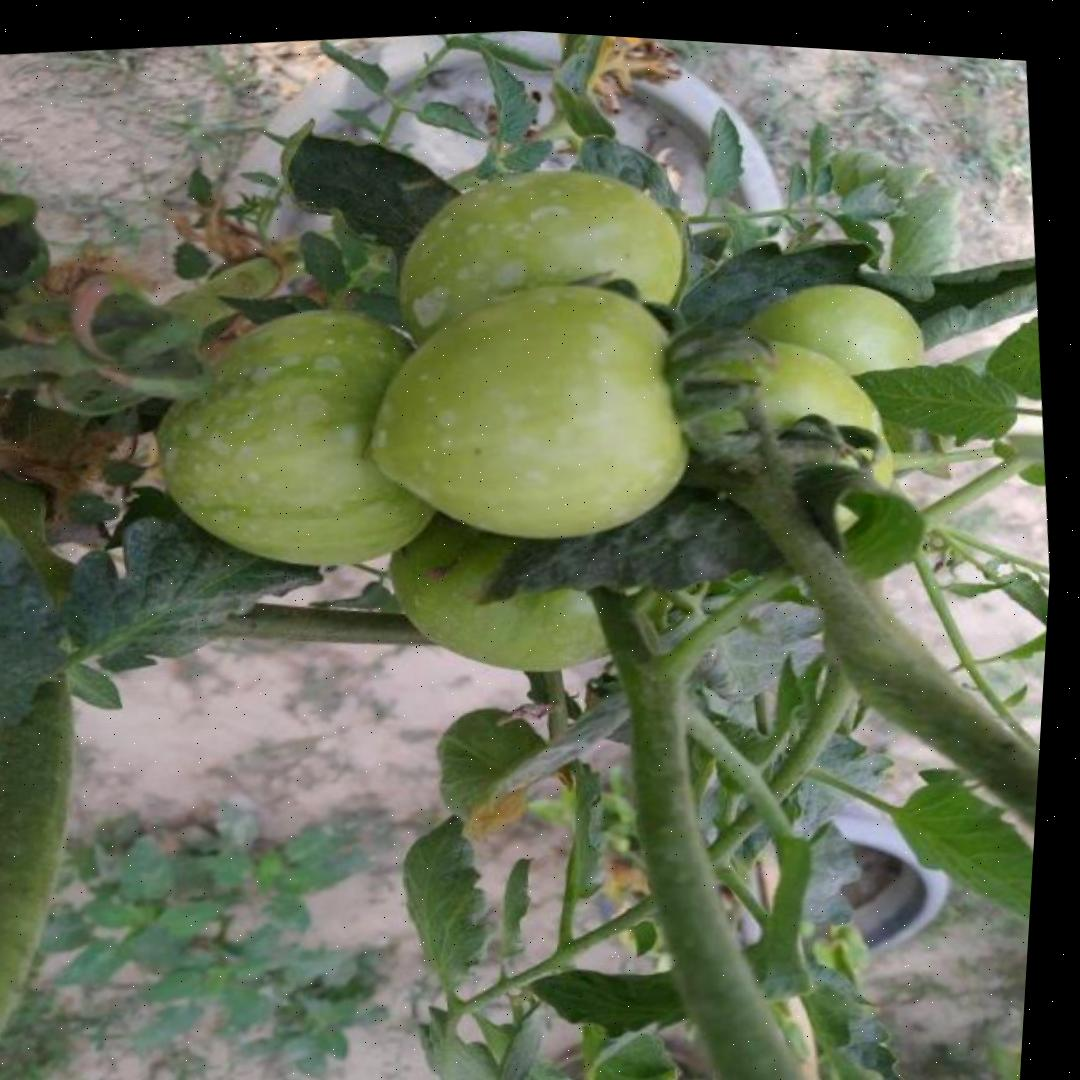mentah: (343, 262, 715, 568), (127, 288, 458, 592)
